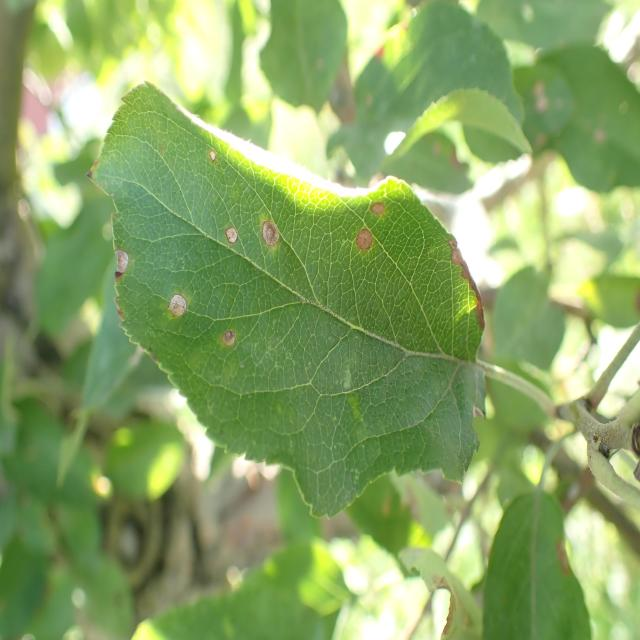Black Rot: (356, 186, 412, 228), (258, 198, 287, 276), (350, 226, 389, 268), (104, 235, 134, 281), (163, 287, 195, 327), (220, 318, 248, 359), (202, 131, 223, 180), (223, 222, 237, 269)
